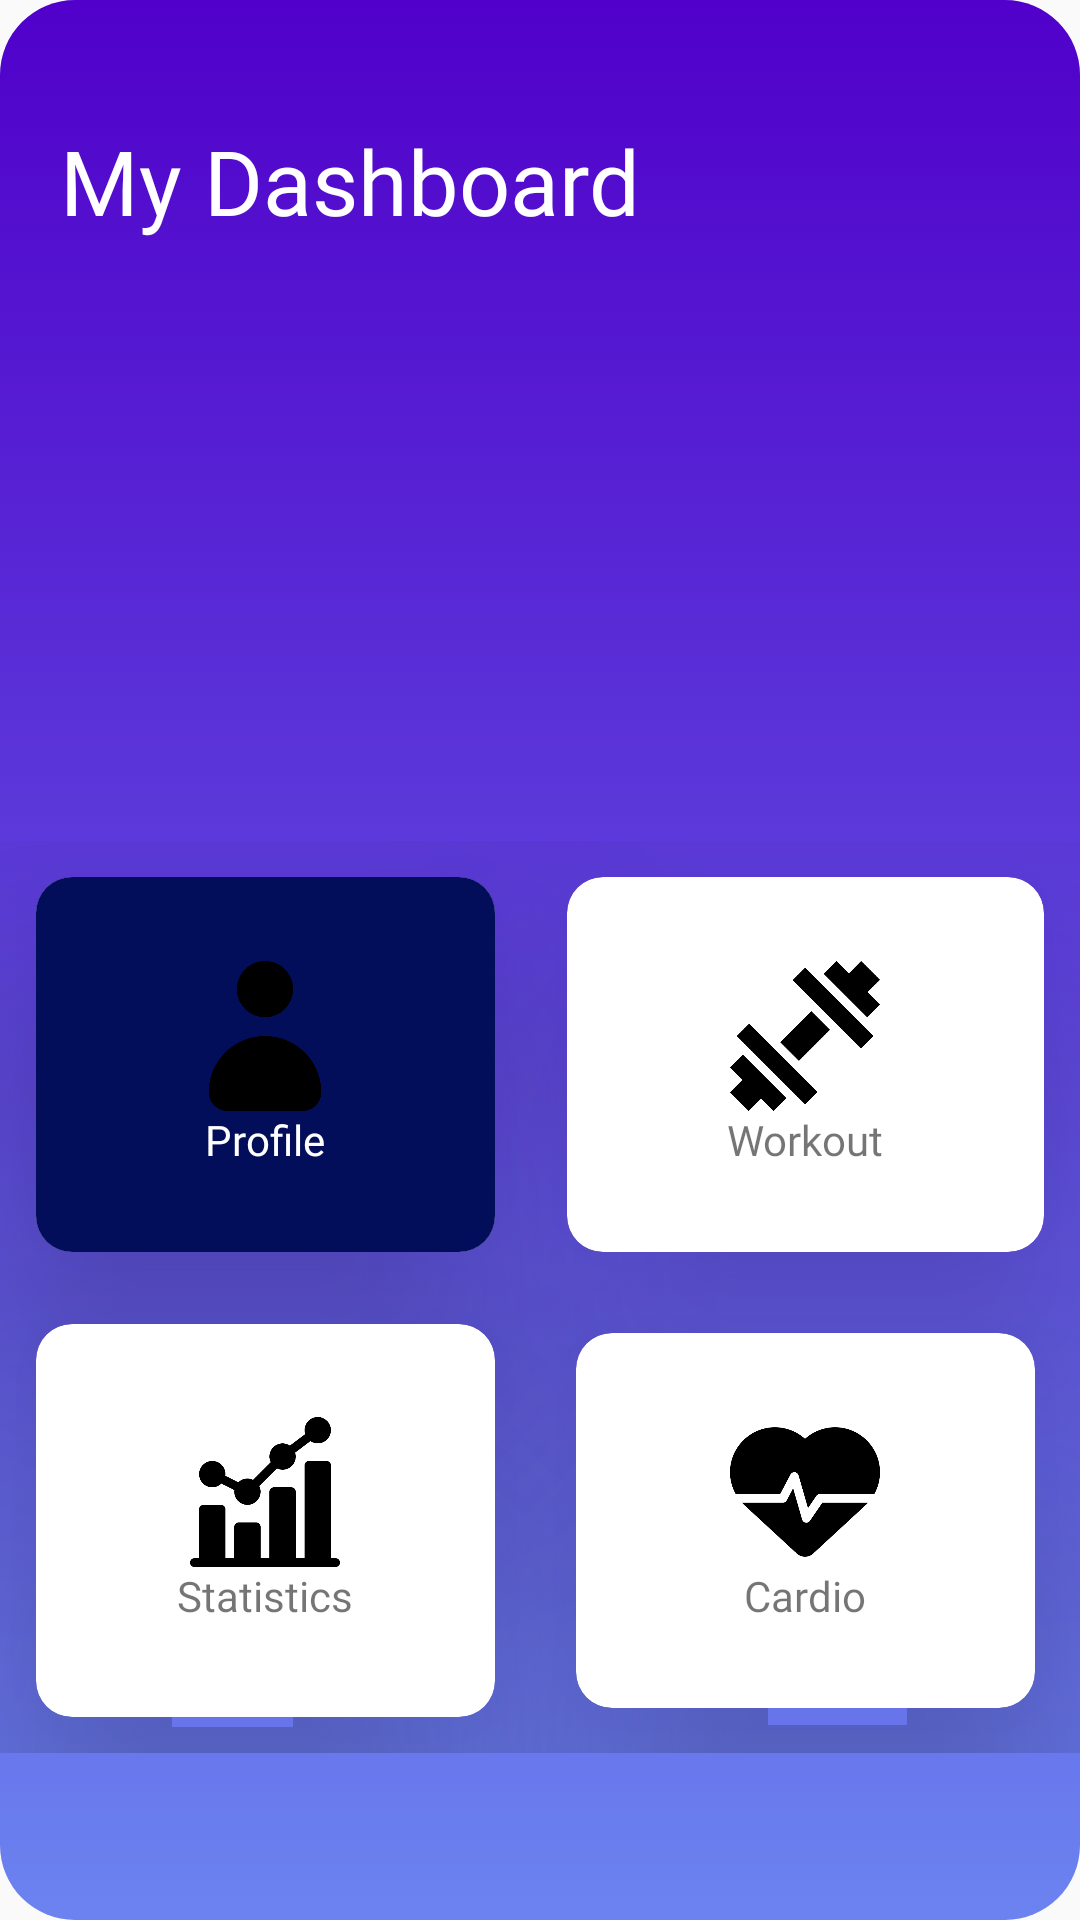

Named icons in this screenshot (1080 × 1920) and their bounding boxes, [x1, y1, x2, y2]:
dumbell: [730, 961, 880, 1111]
